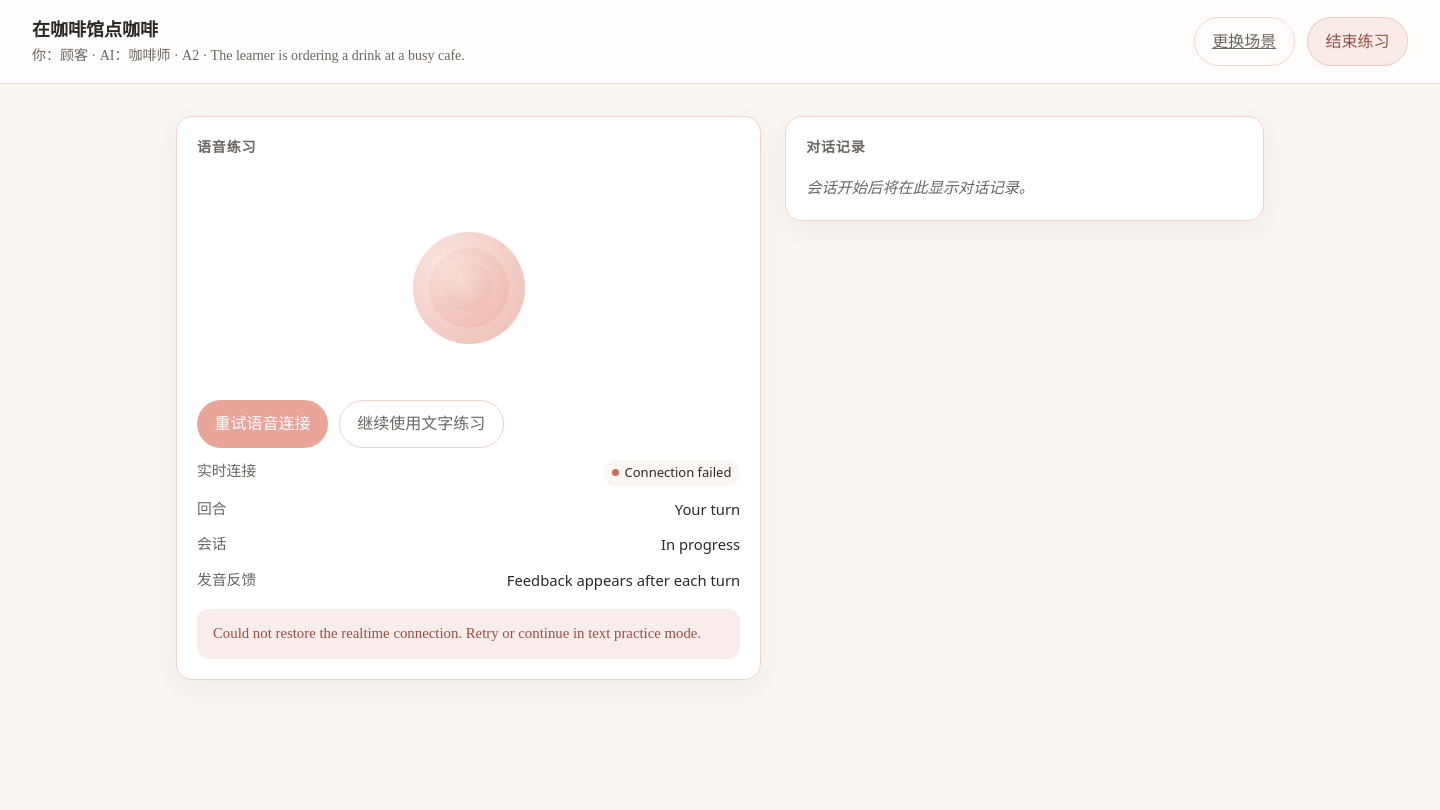
Test case: ConversationShell realtime lifecycle › enters fallback mode and exposes the practice button
Step 1. Click the button with test id "fallback-practice-button" → (421, 424), box 339,400 -> 504,448
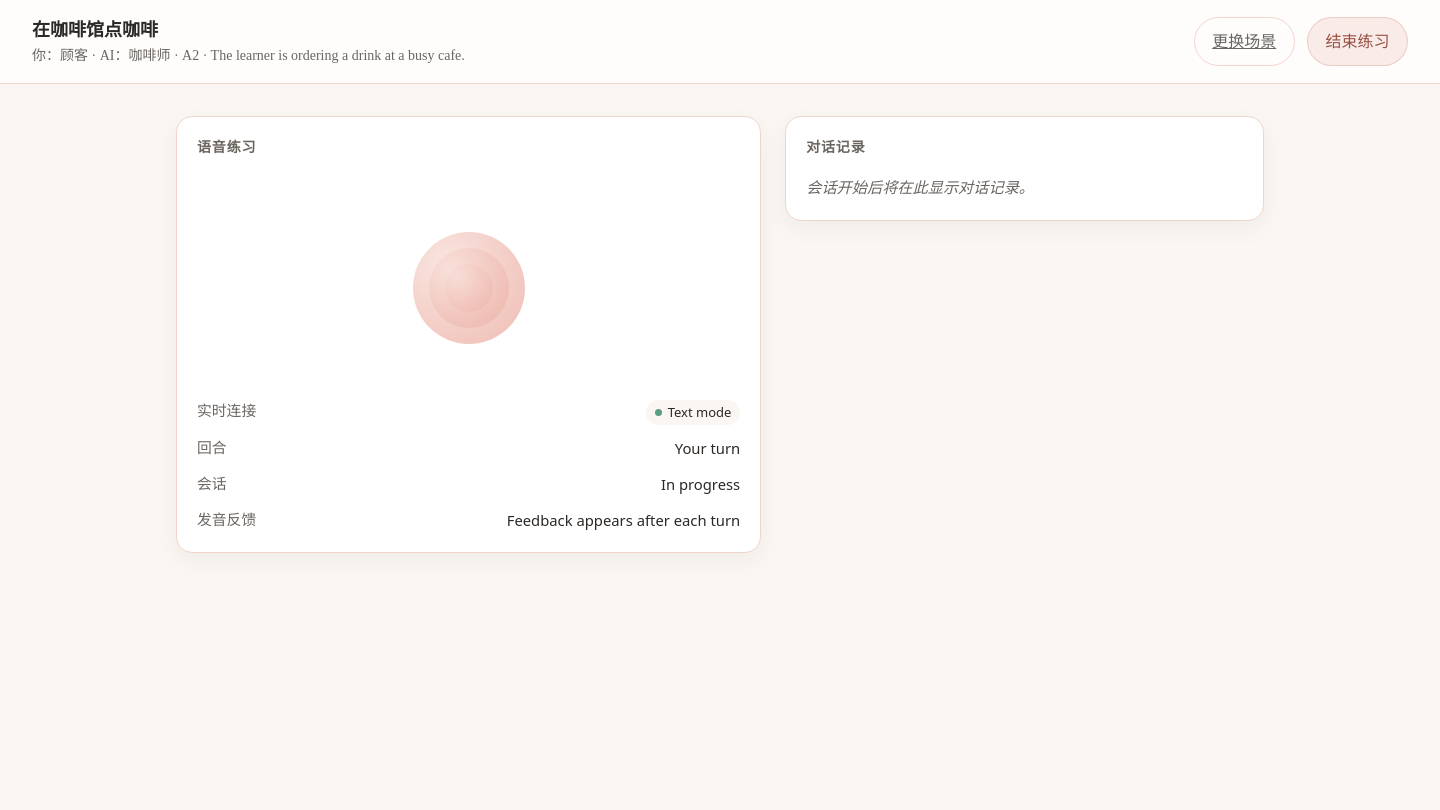
Expected: the text "Text mode" is shown, 646,400 -> 740,425
